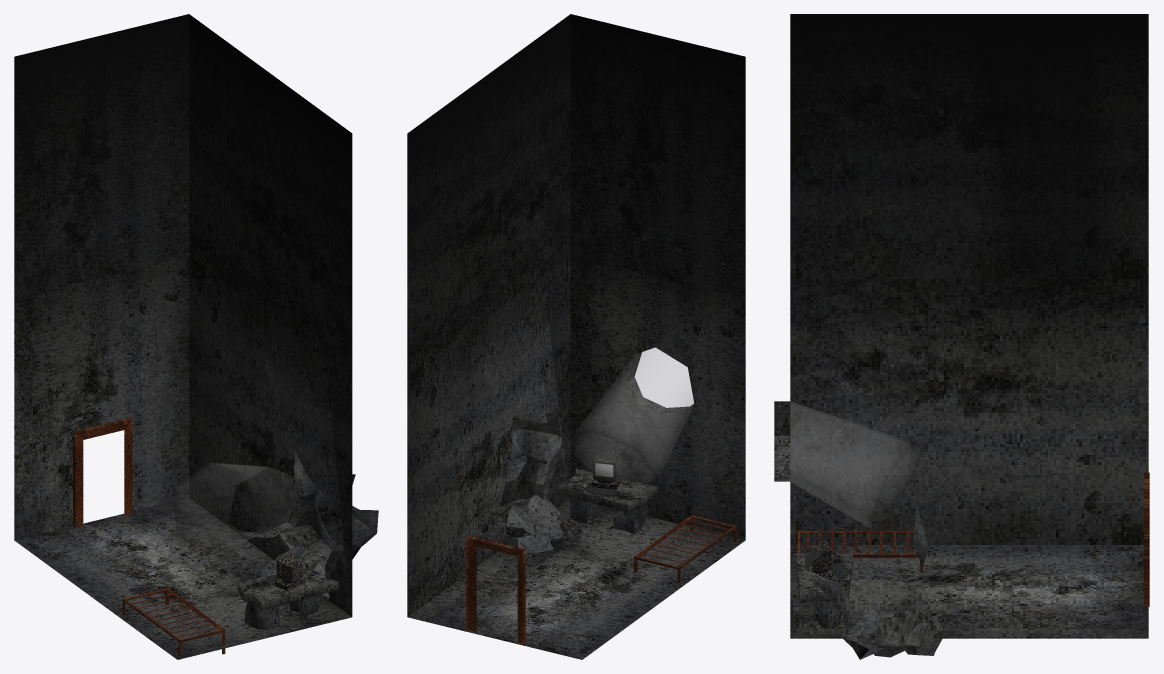
Rendered from panopticon_cell.glb.
3 views of the same model, side by side, from view 1: azimuth 30°, elevation 25°; view 2: azimuth 150°, elevation 25°; view 3: azimuth 270°, elevation 25° (orthographic). The views are drawn at different scales.
Parts seen in each view (by area): view 1: funny room; view 2: funny room; view 3: funny room.
Part boxes in pixels (x1=…): funny room: x1=14, y1=14, x2=378, y2=659; funny room: x1=407, y1=14, x2=745, y2=659; funny room: x1=774, y1=14, x2=1149, y2=659.
Bounding box in the file's own units: 5.2 × 11.78 × 7.23.
Materials: 6 (4 with a texture image).
